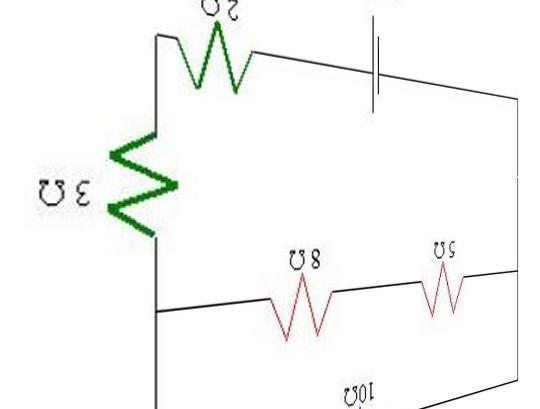resistor: (97, 108, 185, 244), (166, 26, 273, 101), (250, 267, 349, 344), (401, 254, 473, 323)
